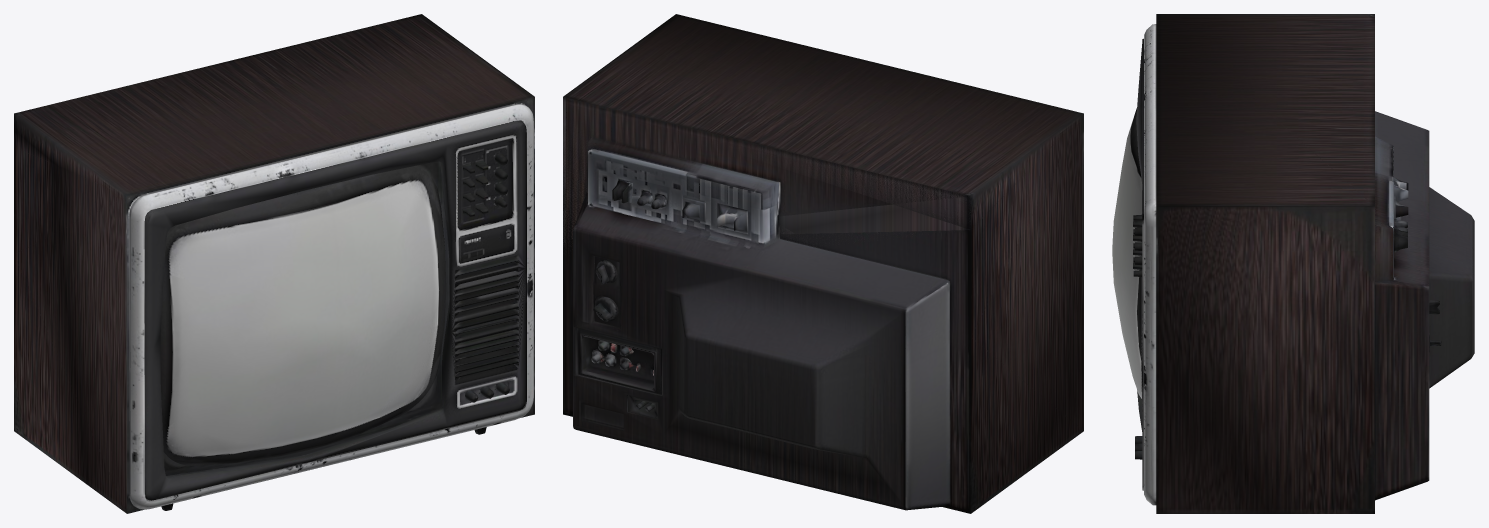
The model's file is vintage_tv.glb.
The picture shows the model from 3 angles, left to right: view 1: azimuth 30°, elevation 25°; view 2: azimuth 150°, elevation 25°; view 3: azimuth 270°, elevation 25°; orthographic projection. The views are drawn at different scales.
Parts seen in each view (by area): view 1: old_tv, old_tv_screen; view 2: old_tv; view 3: old_tv, old_tv_screen.
Boxes of the visible parts, <box> form: old_tv: <box>14,14,534,513</box>; old_tv_screen: <box>168,180,438,456</box>; old_tv: <box>563,14,1083,513</box>; old_tv: <box>1130,14,1474,513</box>; old_tv_screen: <box>1112,115,1142,398</box>.
Bounding box in the file's own units: 0.9995 × 0.7769 × 0.7954.
Materials: 1 (1 with a texture image).
